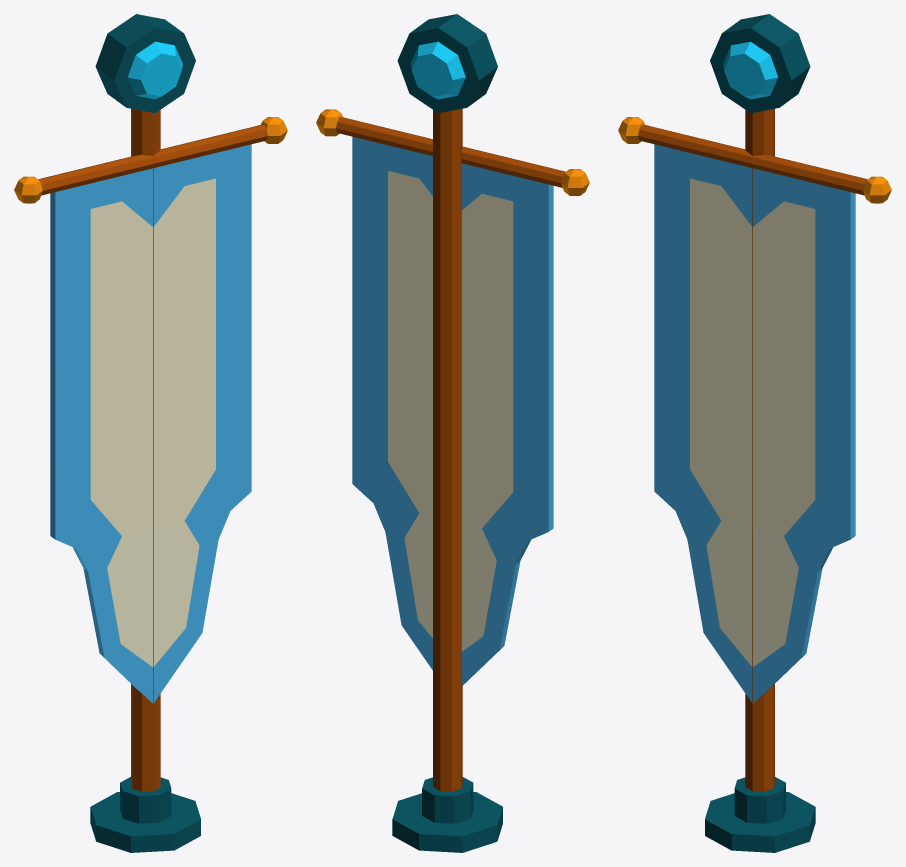
The model's file is Props_Banner_Flag_01.fbx.
The picture shows the model from 3 angles, left to right: view 1: azimuth 30°, elevation 25°; view 2: azimuth 150°, elevation 25°; view 3: azimuth 330°, elevation 25°; orthographic projection.
Parts seen in each view (by area): view 1: Props_Banner_Flag_01; view 2: Props_Banner_Flag_01; view 3: Props_Banner_Flag_01.
Part boxes in pixels (x1=…): Props_Banner_Flag_01: x1=14, y1=14, x2=287, y2=852; Props_Banner_Flag_01: x1=316, y1=14, x2=589, y2=852; Props_Banner_Flag_01: x1=618, y1=14, x2=891, y2=852.
Bounding box in the file's own units: 271 × 787 × 101.
